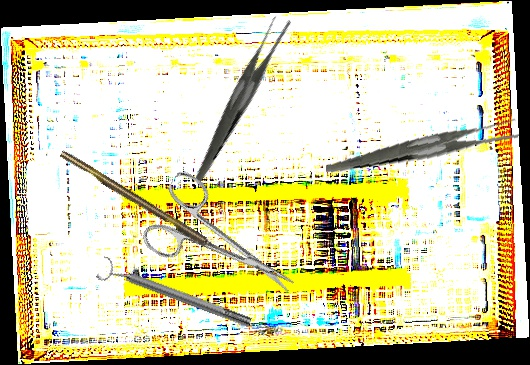Dressing Forceps: (152, 11, 327, 183), (325, 99, 521, 192)
Fixation Ring: (95, 254, 255, 336)
Hook Surgical: (58, 148, 234, 263)
Iris Scissors: (134, 168, 313, 325)
